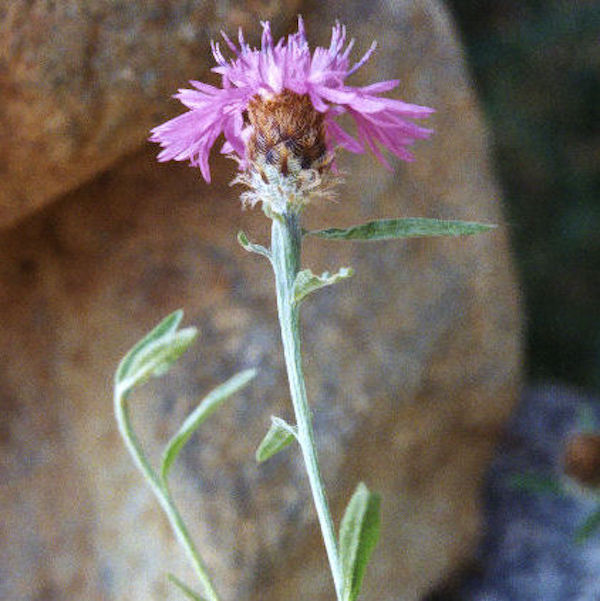thistle: (156, 24, 431, 218)
